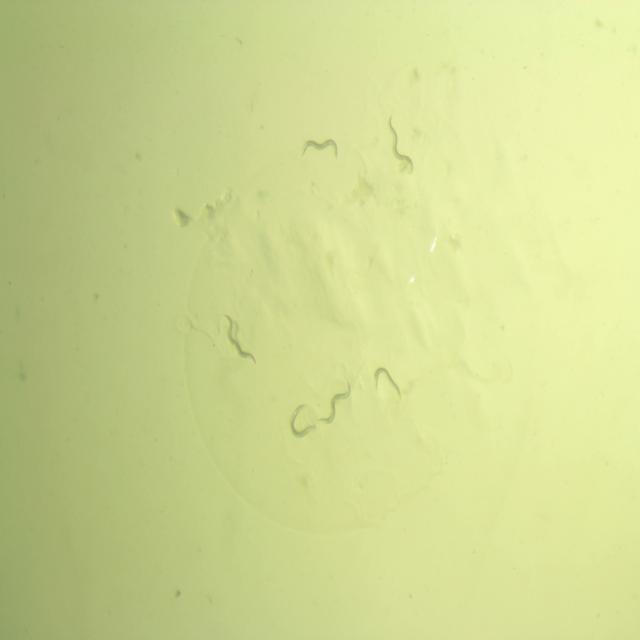worm: (220, 313, 259, 368), (386, 112, 416, 177), (316, 376, 352, 428), (372, 364, 403, 404), (287, 399, 317, 440), (300, 136, 341, 163)
